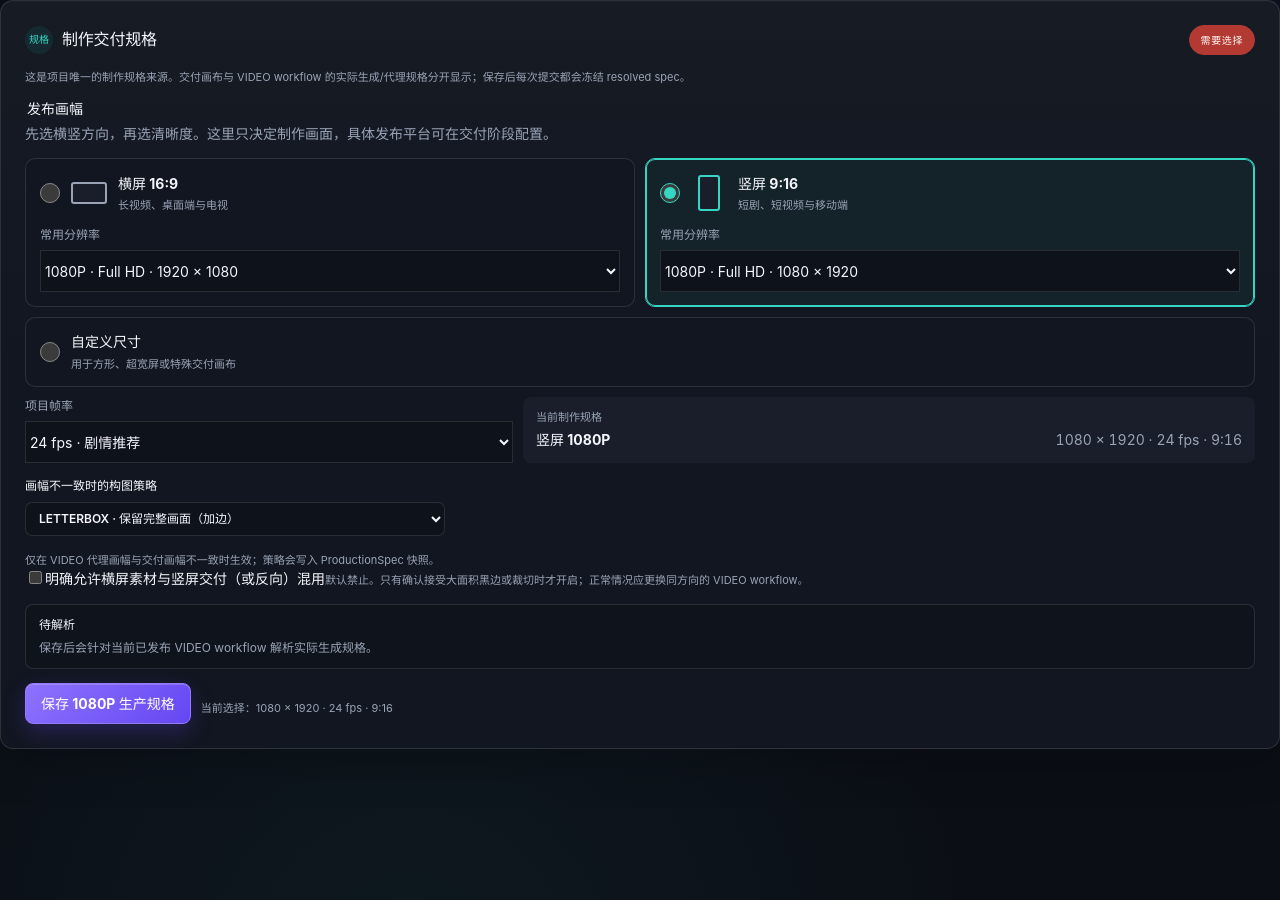
it: ProductionSpecEditor › saves a selected landscape 480P presentation without a resolution-specific label
Click the radio button labelled "横屏 16:9 长视频、桌面端与电视": {"x": 50, "y": 193} [40,183,60,203]
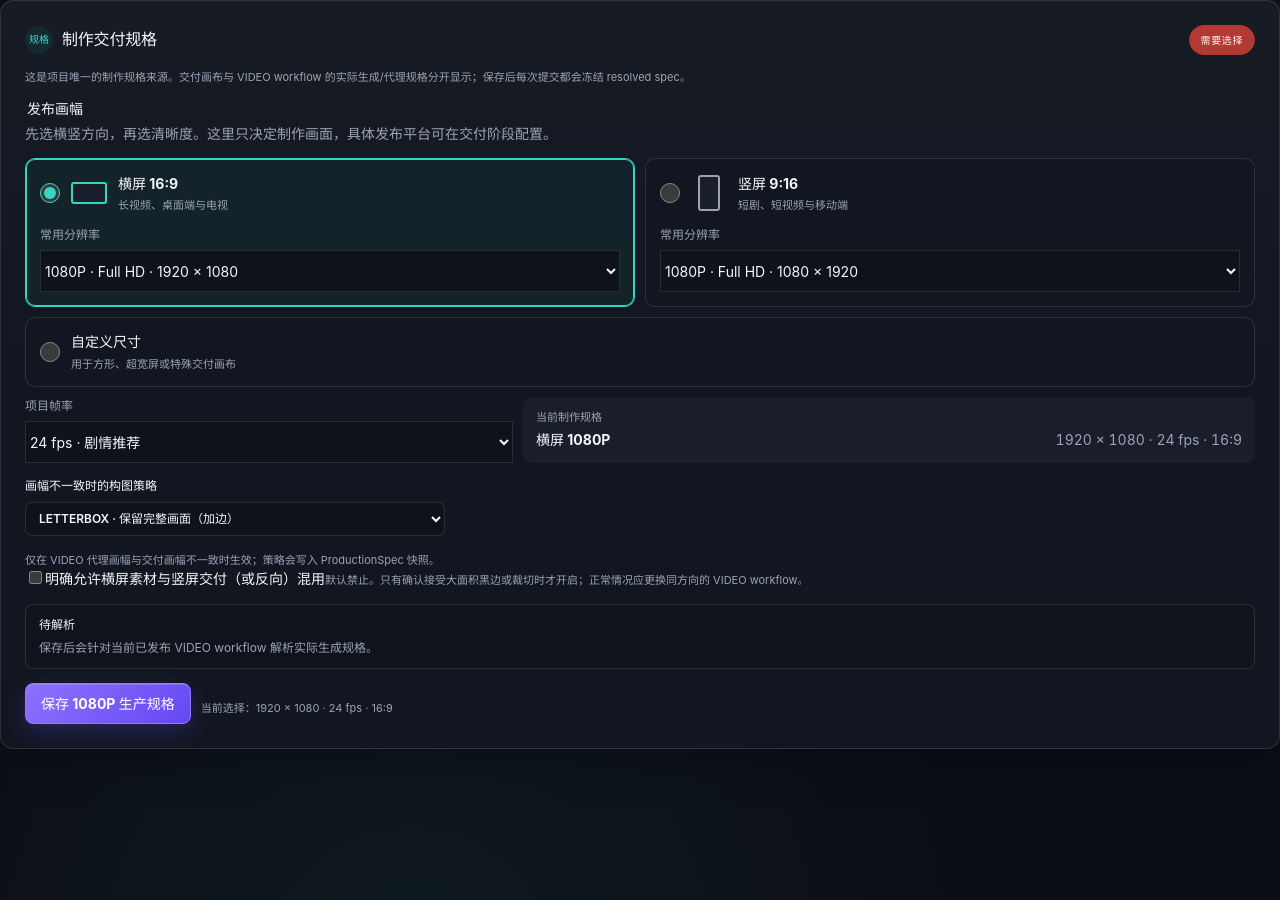
Select "480P · 854 × 480" in the dropdown labelled "常用分辨率" below "长视频、桌面端与电视": {"x": 330, "y": 271} [40,250,620,292]
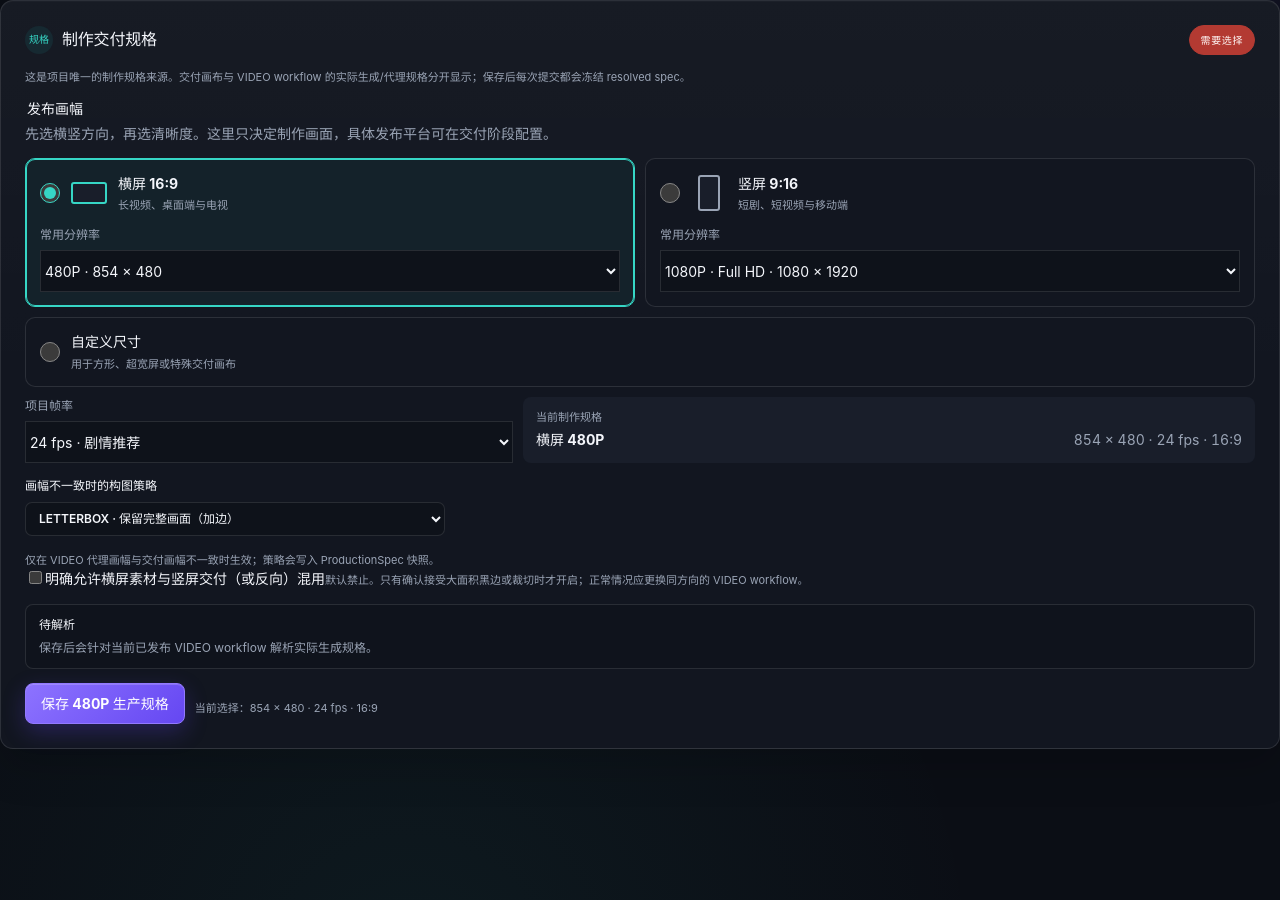
expect the button "保存 480P 生产规格" is shown: met
Click the button "保存 480P 生产规格": {"x": 105, "y": 703} [25,682,185,724]
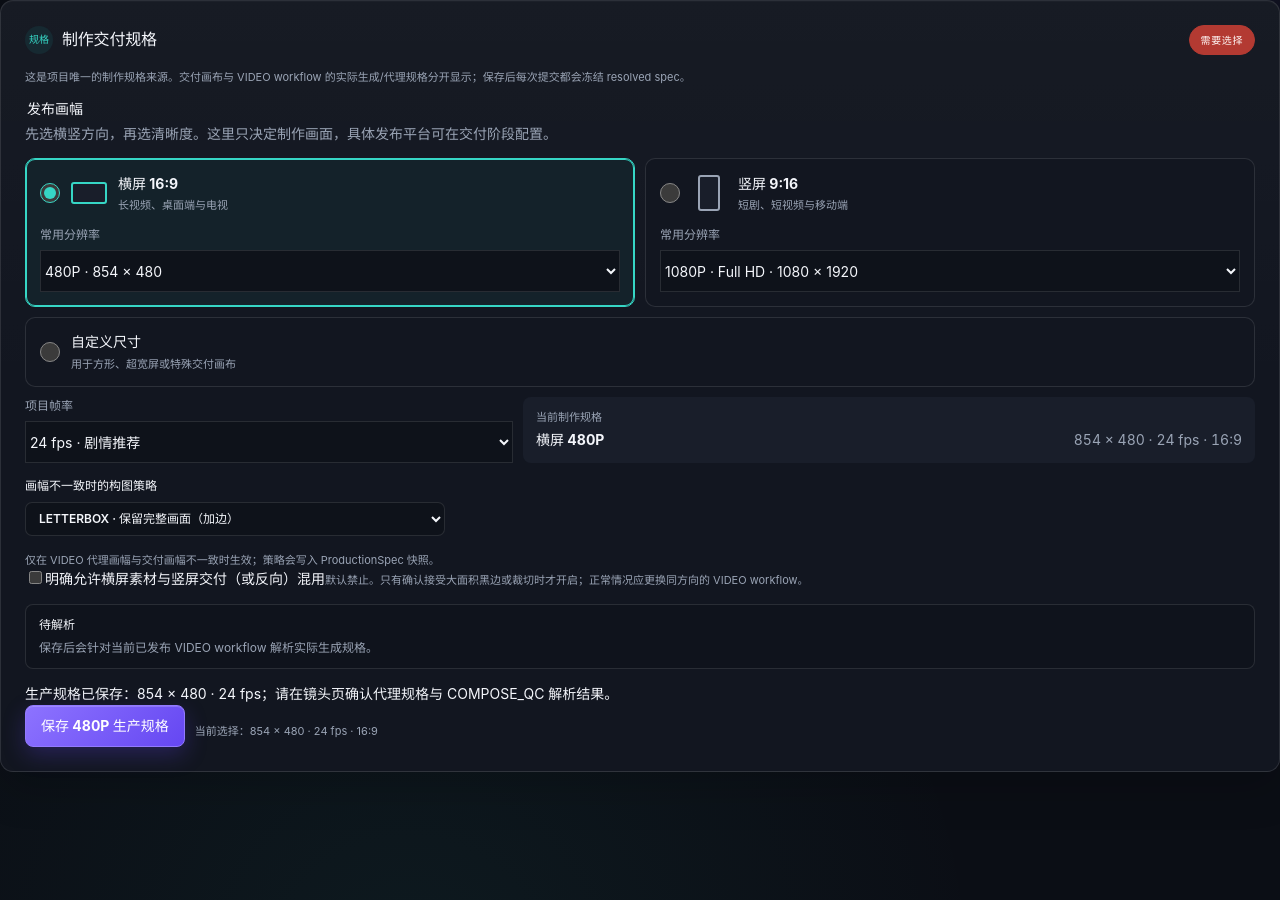
expect the message shows "生产规格已保存：854 × 480 · 24 fps": met, box [25,684,618,702]
